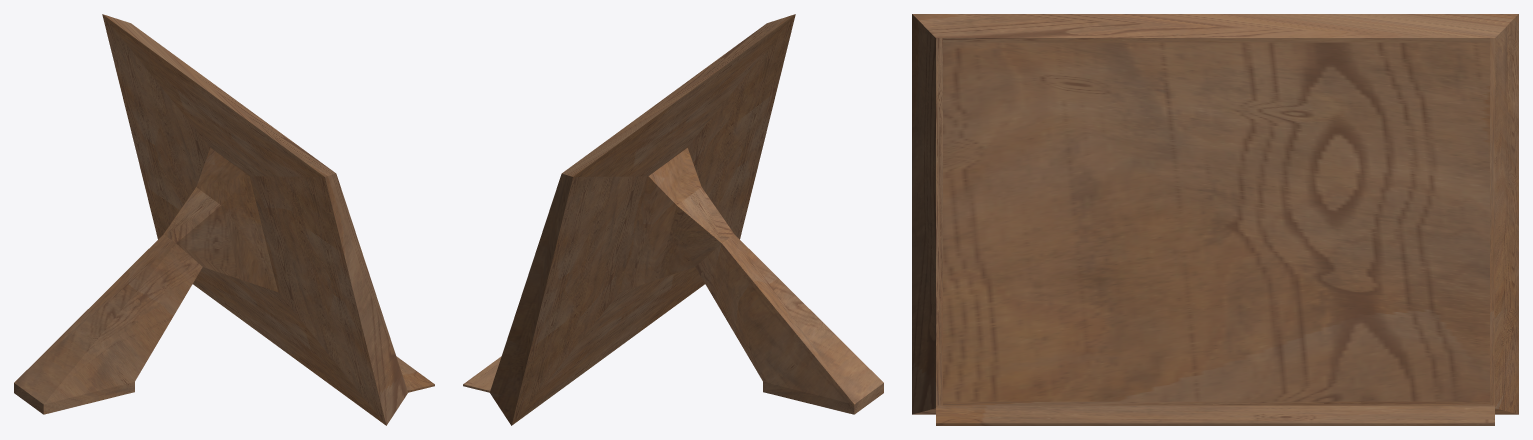
File: leggio.fbx
3 views of the same model, side by side, from view 1: azimuth 30°, elevation 25°; view 2: azimuth 150°, elevation 25°; view 3: azimuth 270°, elevation 25° (orthographic). The views are drawn at different scales.
Visible parts, largest first — view 1: Cube; view 2: Cube; view 3: Cube.
Boxes of the visible parts, bbox=[...] form: Cube: bbox=[14, 14, 434, 425]; Cube: bbox=[463, 14, 883, 425]; Cube: bbox=[912, 14, 1518, 425].
Size of the model in its own units: 314 by 261 by 400.
